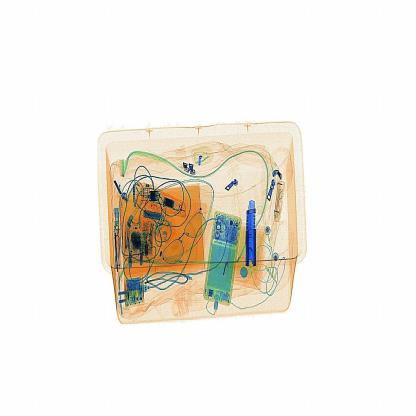pliers: (243, 195, 260, 276)
